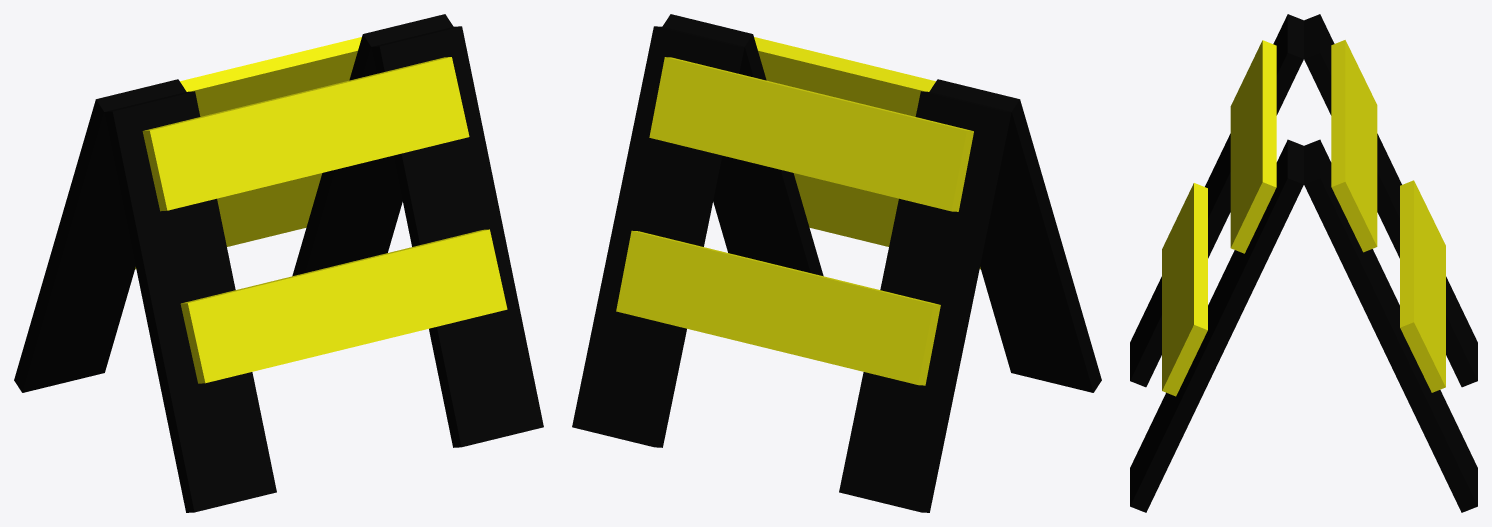
The model's file is Barrier.fbx.
The picture shows the model from 3 angles, left to right: view 1: azimuth 30°, elevation 25°; view 2: azimuth 150°, elevation 25°; view 3: azimuth 270°, elevation 25°; orthographic projection. The views are drawn at different scales.
Visible parts, largest first — view 1: Barrier; view 2: Barrier; view 3: Barrier.
Part boxes in pixels (box(x1,y1,x2,y2)): Barrier: box(14, 14, 543, 512); Barrier: box(572, 14, 1101, 512); Barrier: box(1130, 14, 1477, 512).
Size of the model in its own units: 175 by 166 by 156.
